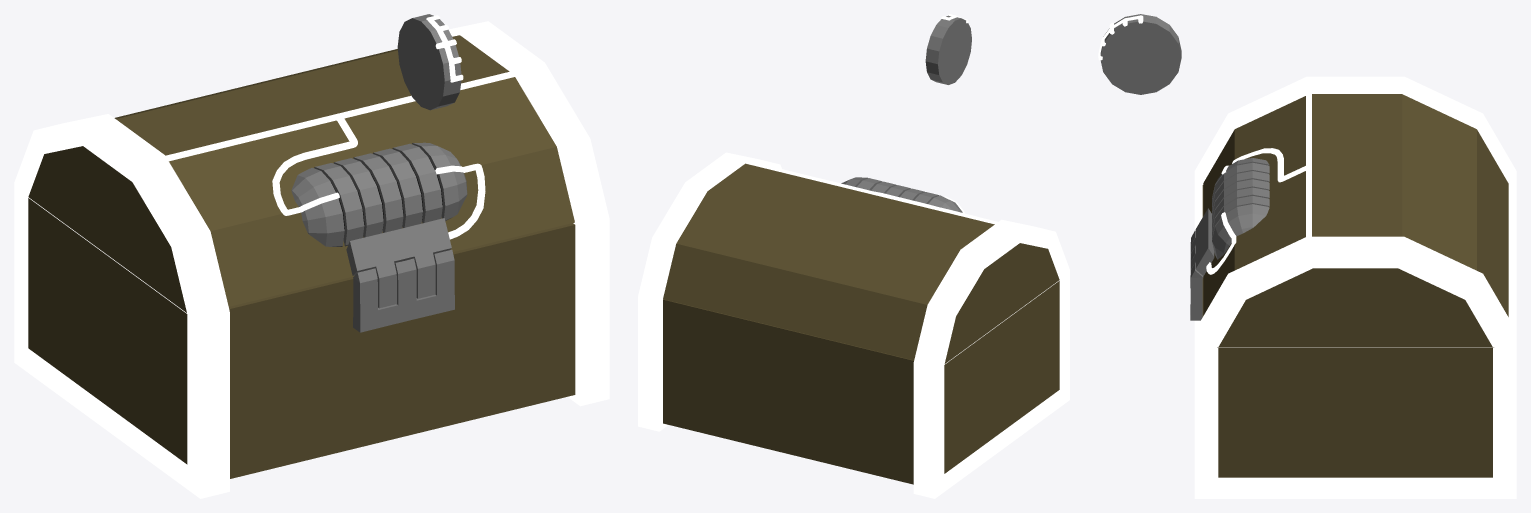
Rendered from chest.glb.
3 views of the same model, side by side, from view 1: azimuth 30°, elevation 25°; view 2: azimuth 150°, elevation 25°; view 3: azimuth 270°, elevation 25° (orthographic). The views are drawn at different scales.
Parts seen in each view (by area): view 1: chest, lid, glow, lid-glow, lock-top, lock-bottom, roller-prototype, power-in, roller-edge-left, roller-edge-right, roller1, roller3 (+4 smaller); view 2: lid, chest, glow, lid-glow, roller-prototype, power-in; view 3: lid, chest, lid-glow, glow, roller-prototype, power-in, roller-edge-right, lock-top, lock-bottom, roller4, roller2, roller1 (+2 smaller).
Boxes of the visible parts, x1,y1,x2,y2 form: chest: (28,198,575,478); lid: (28,35,574,312); glow: (14,183,609,498); lid-glow: (14,21,609,318); lock-top: (346,218,451,308); lock-bottom: (353,249,454,332); roller-prototype: (397,14,461,110); power-in: (165,71,515,215); roller-edge-left: (291,167,344,246); roller-edge-right: (412,142,467,220); roller1: (314,163,364,246); roller3: (353,153,403,232); lid: (663,163,1059,363); chest: (663,281,1059,484); glow: (638,270,1069,498); lid-glow: (638,152,1069,368); roller-prototype: (925,15,971,84); power-in: (745,160,997,224); lid: (1203,94,1508,346); chest: (1202,185,1493,477); lid-glow: (1194,76,1516,347); glow: (1194,183,1516,498); roller-prototype: (1100,14,1181,94); power-in: (1221,91,1311,236); roller-edge-right: (1212,204,1269,259); lock-top: (1190,208,1214,275); lock-bottom: (1190,231,1203,320); roller4: (1212,187,1269,231); roller2: (1212,171,1269,214); roller1: (1212,162,1269,206).
Bounding box in the file's own units: 0.4007 × 0.4264 × 0.4102.
